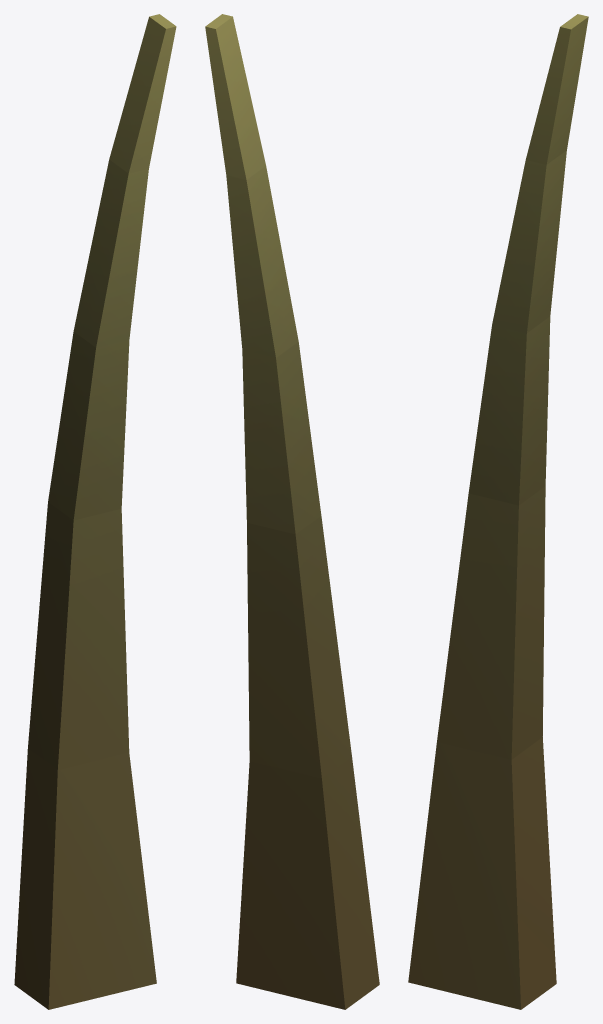
The model's file is grass3.fbx.
3 views of the same model, side by side, from view 1: azimuth 30°, elevation 25°; view 2: azimuth 150°, elevation 25°; view 3: azimuth 330°, elevation 25° (orthographic). The views are drawn at different scales.
Parts seen in each view (by area): view 1: grass.003; view 2: grass.003; view 3: grass.003.
Part boxes in pixels (x1=…): grass.003: x1=14, y1=14, x2=176, y2=1009; grass.003: x1=205, y1=14, x2=379, y2=1009; grass.003: x1=408, y1=14, x2=588, y2=1009.
Bounding box in the file's own units: 6.14 × 11.94 × 75.36.
